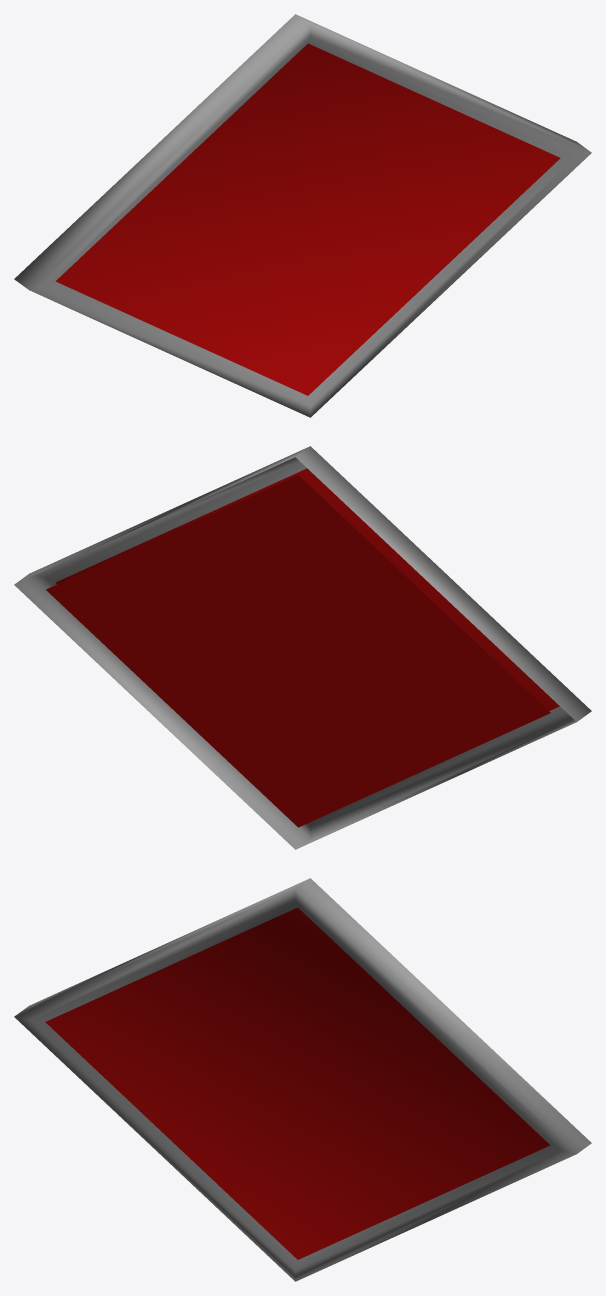
Rendered from RedBet.glb.
3 views of the same model, one above another, from view 1: azimuth 30°, elevation 25°; view 2: azimuth 150°, elevation 25°; view 3: azimuth 330°, elevation 25° (orthographic).
Parts seen in each view (by area): view 1: RedBet; view 2: RedBet; view 3: RedBet.
Part boxes in pixels (x1,y1,x2,y2): RedBet: (14, 14, 591, 417); RedBet: (14, 446, 591, 849); RedBet: (14, 878, 591, 1281).
Size of the model in its own units: 0.3341 by 0.2227 by 0.0155.
1 material, 1 textured.
